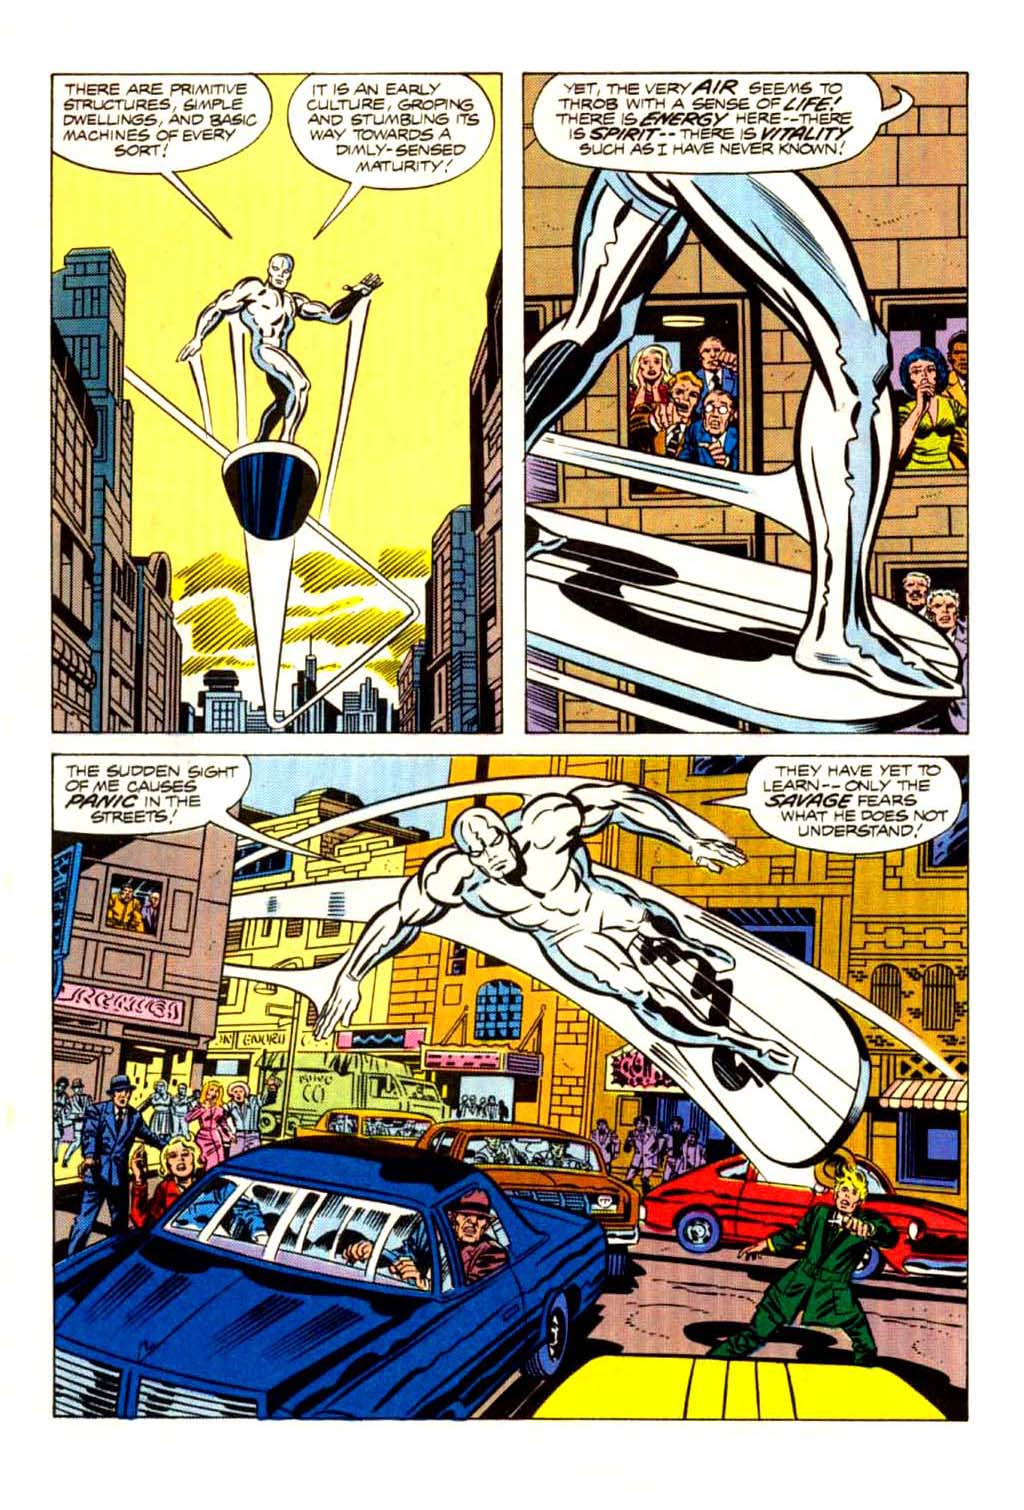Baloon: (534, 66, 911, 171), (48, 75, 269, 235), (290, 71, 494, 235), (718, 748, 967, 858), (50, 757, 318, 857)
Vignetta: (53, 750, 967, 1425), (50, 71, 504, 734), (527, 73, 974, 729)
